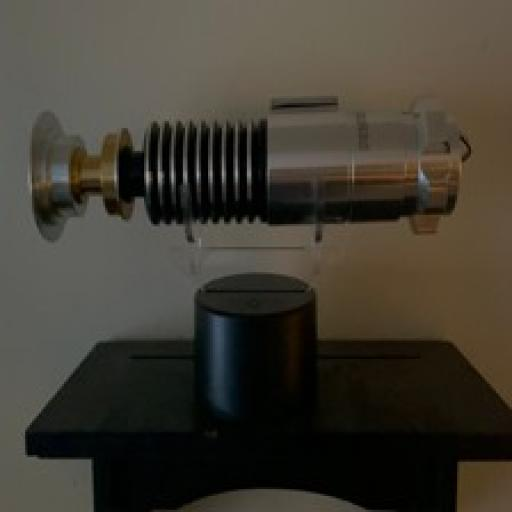lightsaber: (30, 83, 475, 246)
